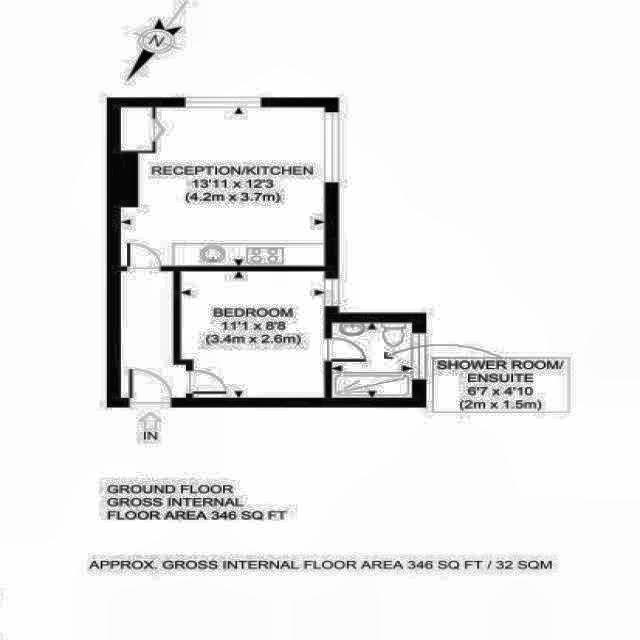room: (121, 107, 325, 267), (181, 271, 326, 398), (121, 271, 186, 398), (331, 322, 412, 398)
